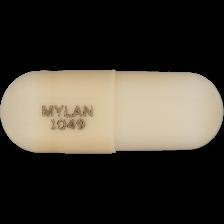45865-775: (0, 0, 224, 224)
